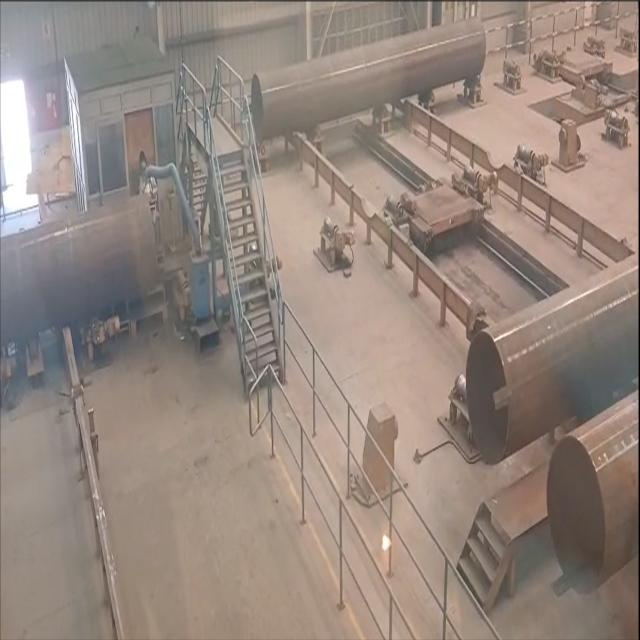warningzone: (289, 95, 638, 334)
